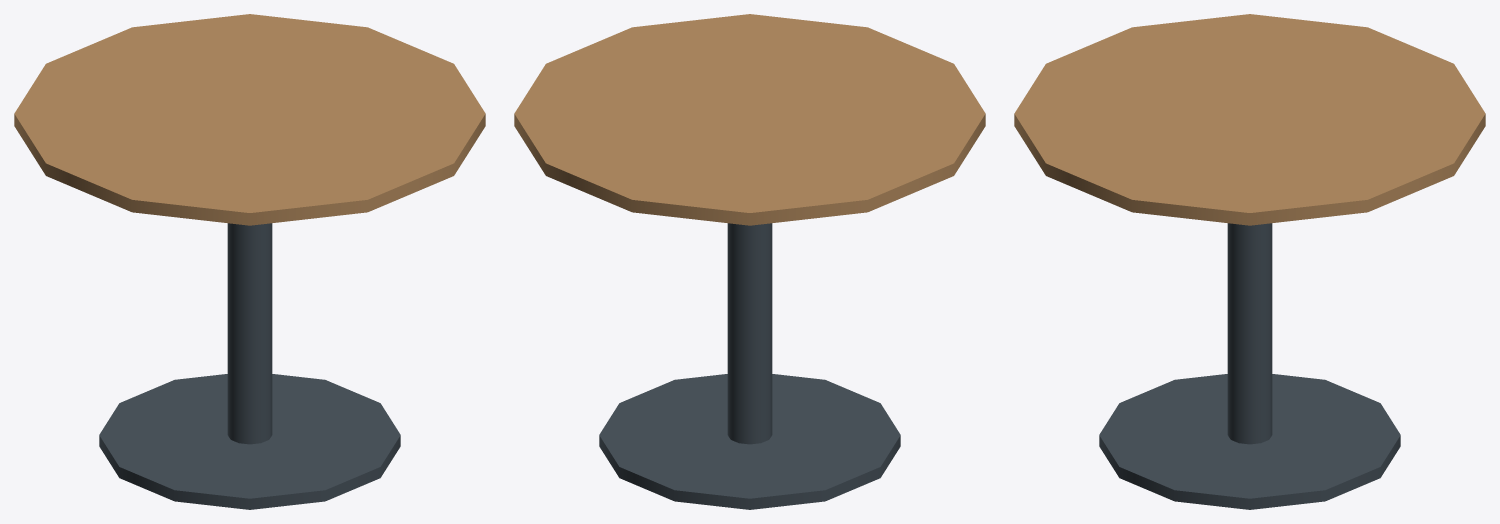
The model's file is meetingTable-1.glb.
3 renders of one model, left to right at view 1: azimuth 30°, elevation 25°; view 2: azimuth 150°, elevation 25°; view 3: azimuth 270°, elevation 25°, orthographic.
Visible parts, largest first — view 1: meetingTable:1:editor; view 2: meetingTable:1:editor; view 3: meetingTable:1:editor.
Part boxes in pixels (<box>): meetingTable:1:editor: <box>14,14,485,509</box>; meetingTable:1:editor: <box>514,14,985,509</box>; meetingTable:1:editor: <box>1014,14,1485,509</box>.
Bounding box in the file's own units: 0.95 × 0.74 × 0.95.
